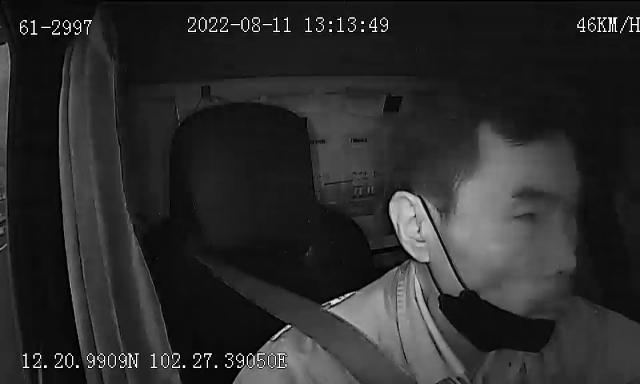Seatbelt: (200, 254, 420, 384)
